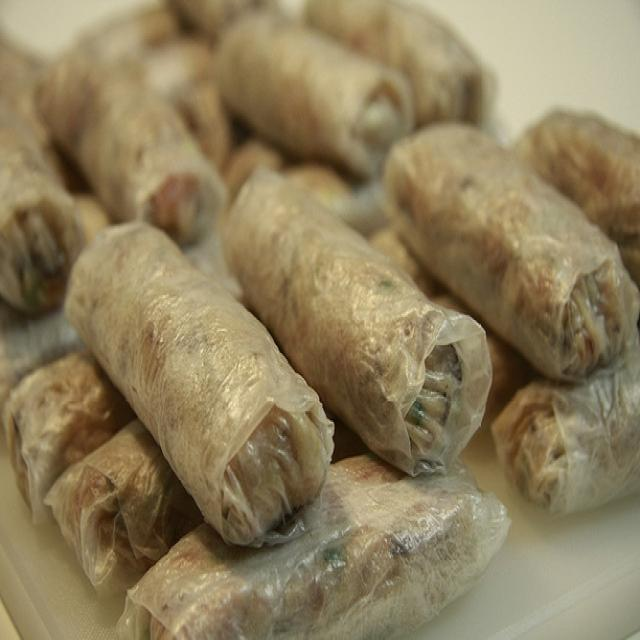炸货点心: (16, 9, 616, 610)
